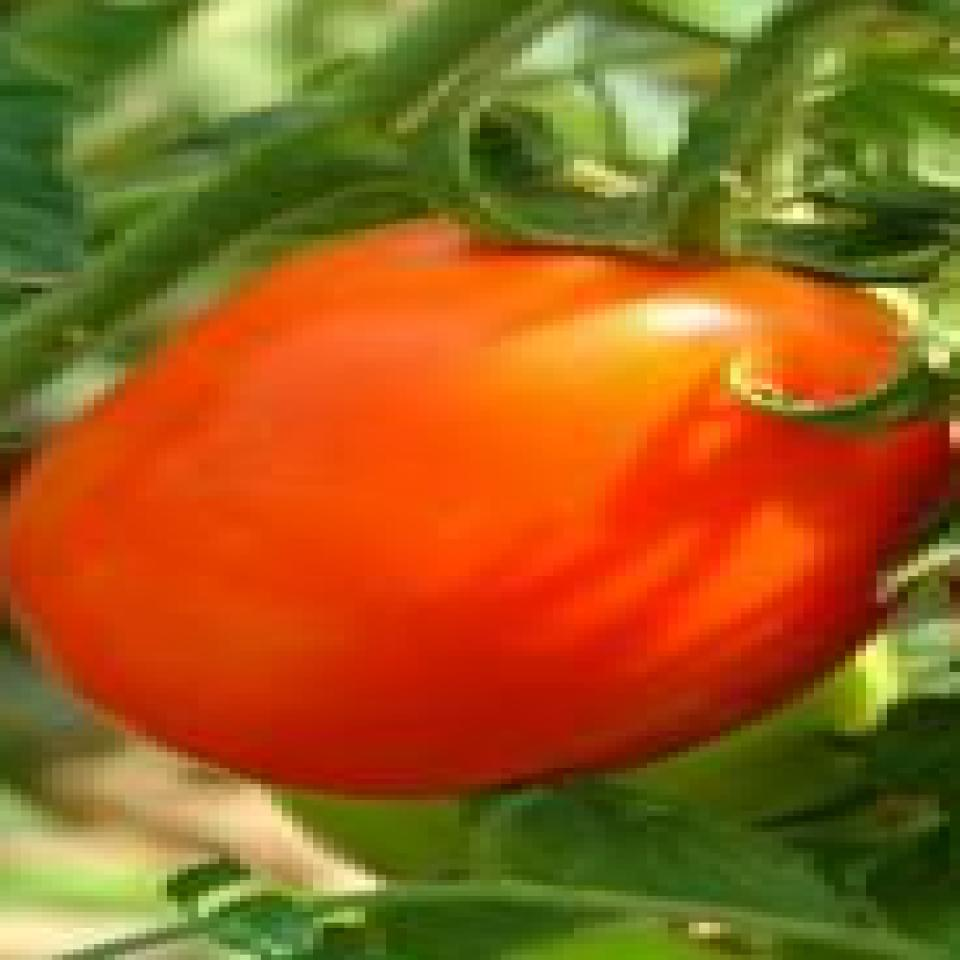Healthy: (0, 235, 928, 773)
